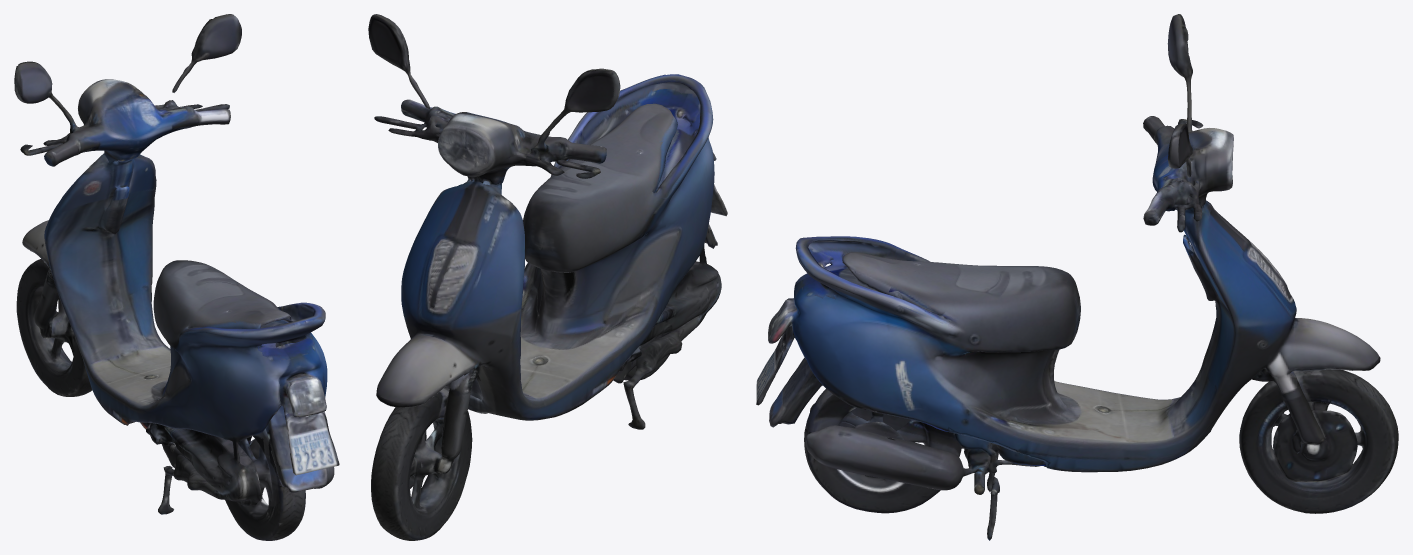
The model's file is Hero_Electric_Optima__0905122741.fbx.
The picture shows the model from 3 angles, left to right: view 1: azimuth 30°, elevation 25°; view 2: azimuth 150°, elevation 25°; view 3: azimuth 270°, elevation 25°; orthographic projection. The views are drawn at different scales.
Visible parts, largest first — view 1: Mesh_0; view 2: Mesh_0; view 3: Mesh_0.
Part boxes in pixels (x1=…): Mesh_0: x1=14, y1=14, x2=339, y2=540; Mesh_0: x1=368, y1=14, x2=727, y2=540; Mesh_0: x1=756, y1=14, x2=1398, y2=540.
Size of the model in its own units: 89.49 by 153 by 200.
Materials: 1 (1 with a texture image).
